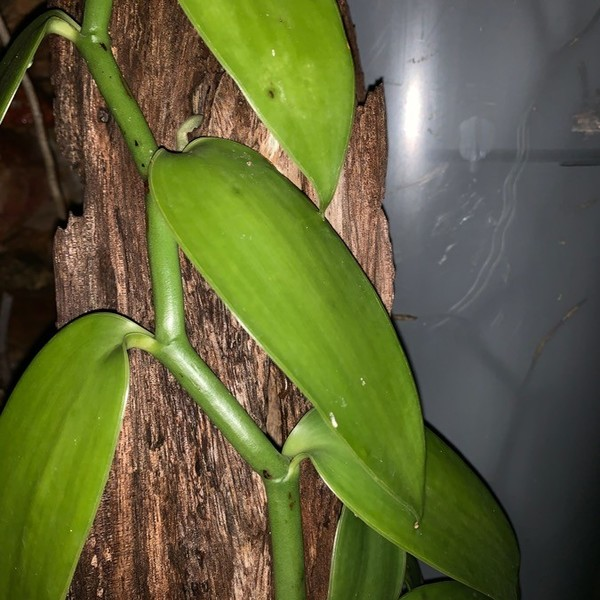obstacle: (39, 30, 484, 574)
